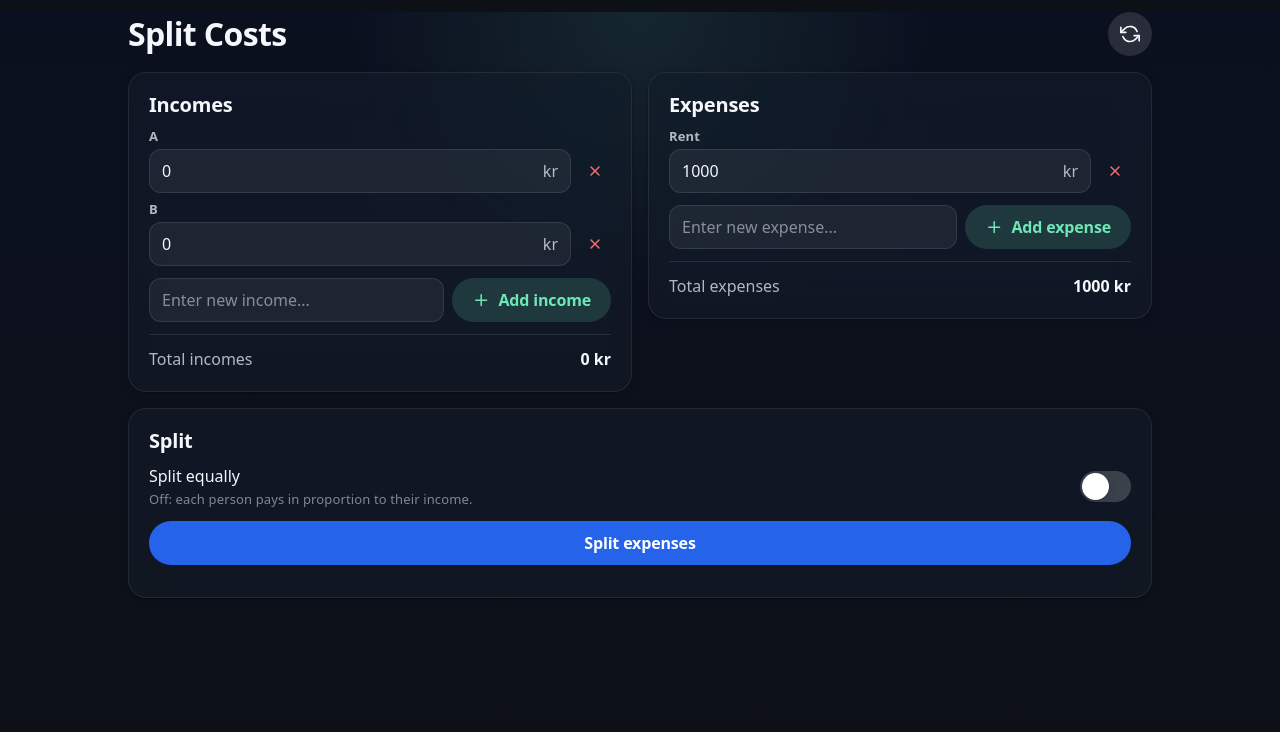
it: CostCalculator › splitting › blocks a proportional split when total income is zero, but allows an equal split
The width and height of the screenshot is (1280, 732).
Click the button "Split expenses" at coordinates (640, 543), box [149,521,1131,565]
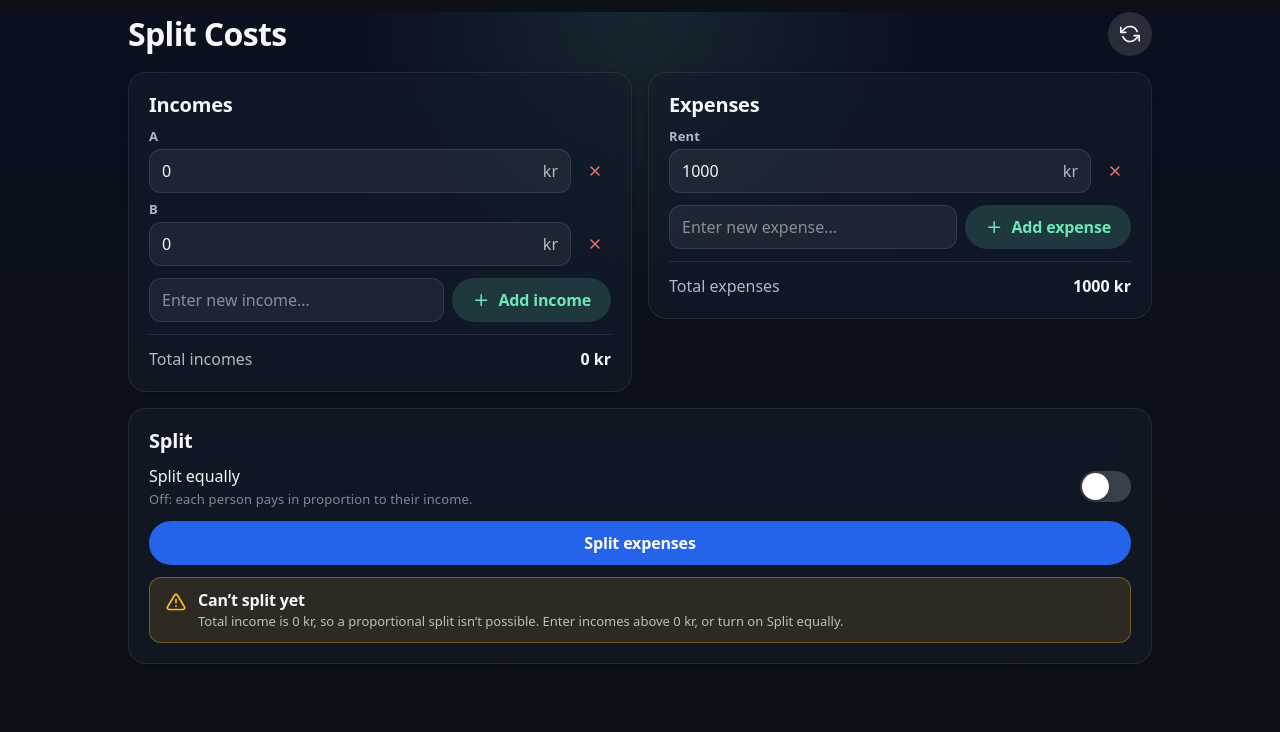
Now the list item "Total income is 0 kr" is shown, box [198,612,844,630]
Click the switch named "Split equally" at coordinates (1106, 486), box [1080,471,1131,502]
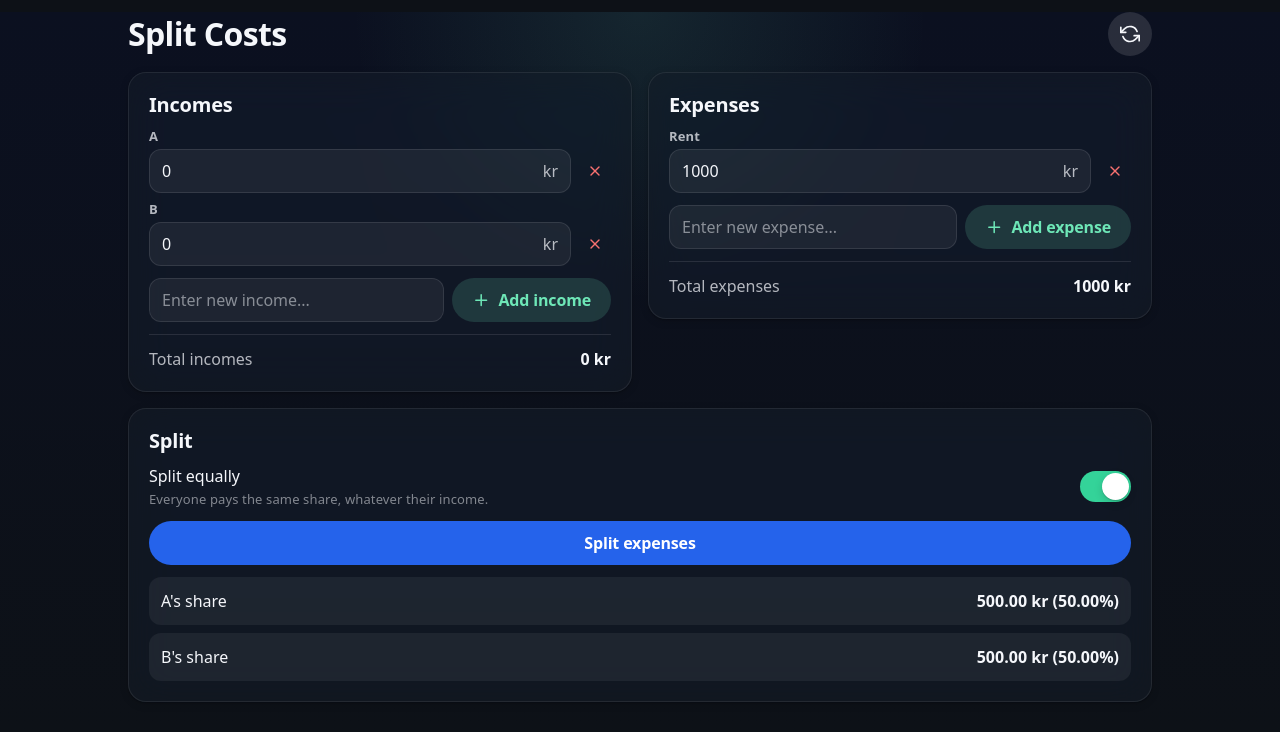
Now the list item "A's share 500.00 kr (50.00%)" is shown, box [149,577,1131,625]
Now the list item "B's share 500.00 kr (50.00%)" is shown, box [149,633,1131,681]
